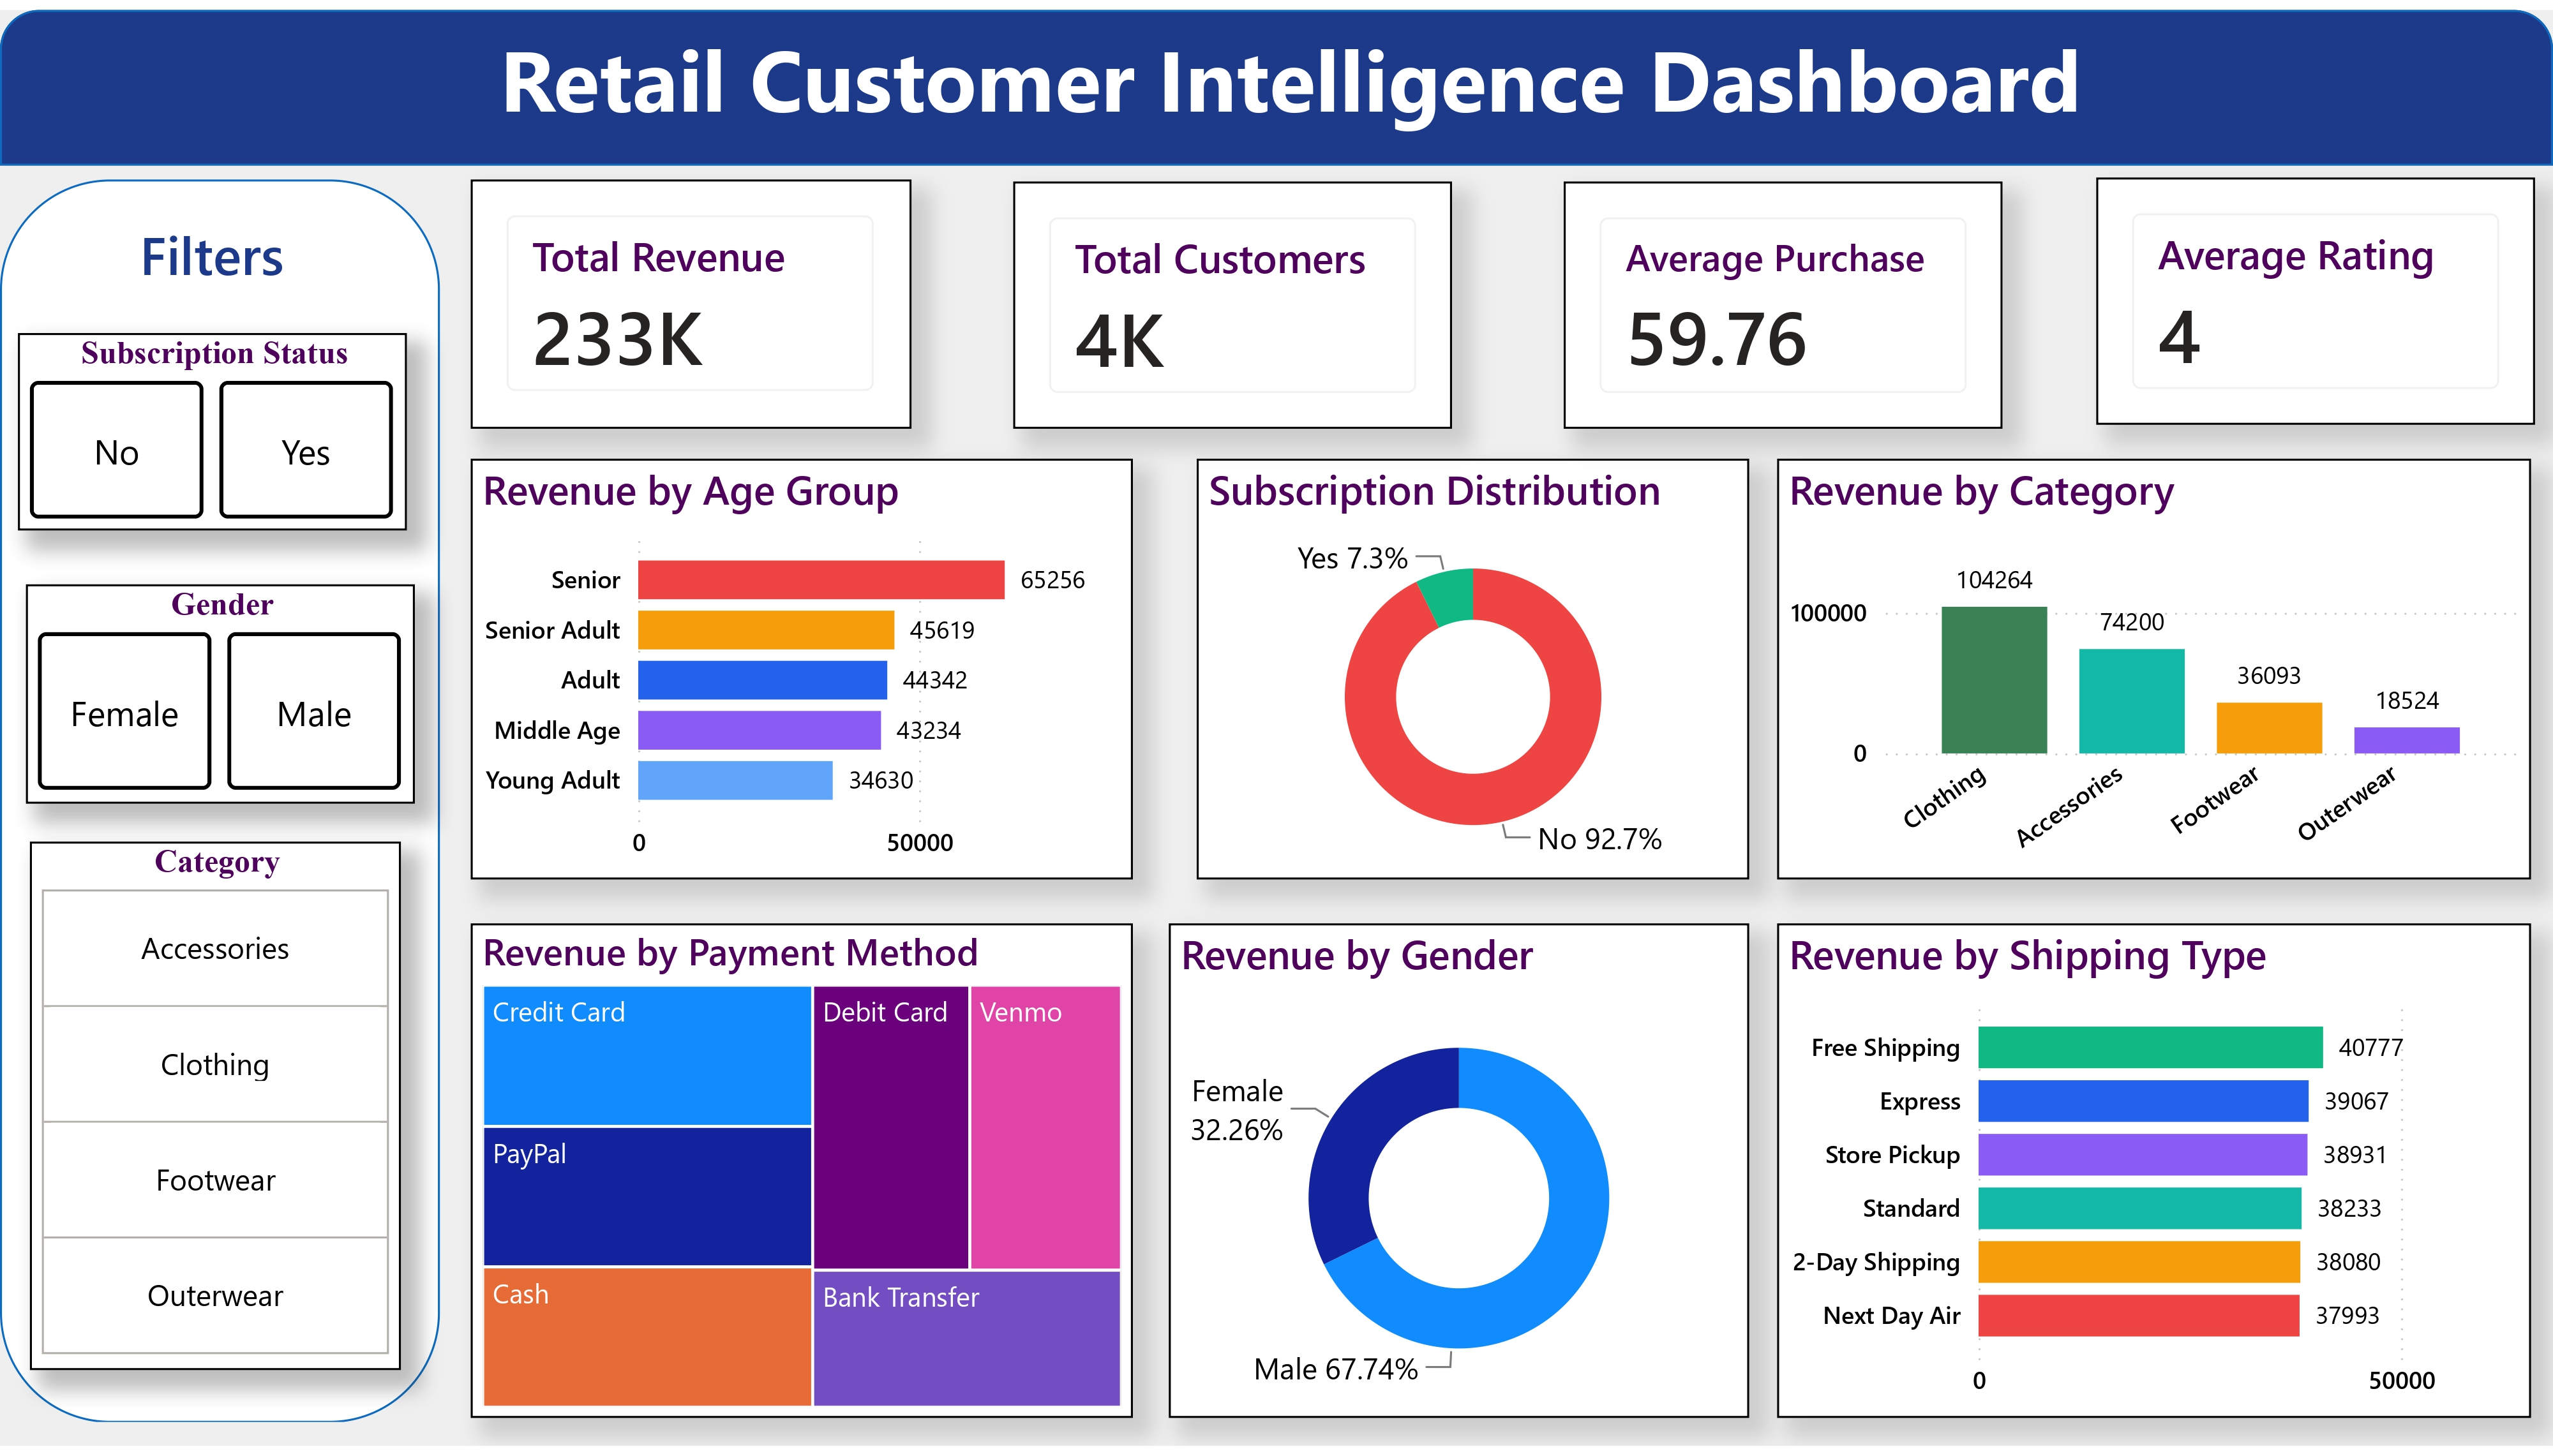

This screenshot's page, from the dashboard's own definition file:
{"tool":"powerbi","page":{"name":"Page 1","canvas":[1280,720],"ordinal":0},"visuals":[{"type":"shape","box":[0,0,1280,78.1],"z":0},{"type":"textbox","box":[13.8,0,1266.2,78.1],"z":1000},{"type":"donutChart","title":"Subscription Distribution","fields":{"Category":["customer_behaviour.subscription_status"],"Y":["Sum(customer_behaviour.customer_id)"]},"box":[600.2,225.1,277.1,211.3],"z":2000},{"type":"cardVisual","fields":{"Data":["customer_behaviour.Total Revenue"]},"box":[235.9,85.4,220.6,124.9],"z":3000},{"type":"cardVisual","fields":{"Data":["customer_behaviour.Average Rating"]},"box":[1050.5,84.1,220,124],"z":4000},{"type":"cardVisual","fields":{"Data":["customer_behaviour.avg_purchase_amount"]},"box":[783.9,85.7,220,124],"z":5000},{"type":"cardVisual","fields":{"Data":["customer_behaviour.Total Customers"]},"box":[508.3,85.7,220,124],"z":6000},{"type":"clusteredColumnChart","title":" Revenue by Category","fields":{"Category":["customer_behaviour.category"],"Y":["customer_behaviour.Total Revenue"]},"box":[891.1,225.1,378.2,211.3],"z":7000},{"type":"donutChart","title":"Revenue by Gender","fields":{"Category":["customer_behaviour.gender"],"Y":["Sum(customer_behaviour.purchase_amount)"]},"box":[586.4,457.8,290.9,248],"z":8000},{"type":"clusteredBarChart","title":"Revenue by Age Group","fields":{"Category":["customer_behaviour.age_group"],"Y":["Sum(customer_behaviour.purchase_amount)"]},"box":[235.8,225.1,332.2,211.3],"z":9000},{"type":"clusteredBarChart","title":"Revenue by Shipping Type","fields":{"Category":["customer_behaviour.shipping_type"],"Y":["Sum(customer_behaviour.purchase_amount)"]},"box":[891.1,457.8,378.2,248],"z":10000},{"type":"treemap","title":"Revenue by Payment Method","fields":{"Group":["customer_behaviour.payment_method"],"Values":["Sum(customer_behaviour.purchase_amount)"]},"box":[235.8,457.8,332.2,248],"z":11000},{"type":"shape","box":[0,85.4,220.6,623.4],"z":12000},{"type":"textbox","box":[24.2,99.4,164.5,48.4],"z":13000},{"type":"advancedSlicerVisual","title":"Subscription Status","fields":{"Values":["customer_behaviour.subscription_status"]},"box":[8.9,161.9,195.1,99.4],"z":14000},{"type":"advancedSlicerVisual","title":"Gender","fields":{"Values":["customer_behaviour.gender"]},"box":[12.7,288.1,195.1,109.6],"z":15000},{"type":"advancedSlicerVisual","title":"Category","fields":{"Values":["customer_behaviour.category"]},"box":[15.3,416.9,186.1,265.2],"z":16000}]}

Visuals, with their boxes in screenshot pixels (x1, y1, x2, y2), scaled from the page's 1280x720 canvas onto the 2553x1456 screenshot:
shape: (0, 0, 2552, 158)
textbox: (27, 0, 2552, 158)
"Subscription Distribution" donutChart: (1197, 455, 1750, 882)
cardVisual - customer_behaviour.Total Revenue: (470, 173, 911, 426)
cardVisual - customer_behaviour.Average Rating: (2095, 170, 2534, 421)
cardVisual - customer_behaviour.avg_purchase_amount: (1564, 174, 2002, 424)
cardVisual - customer_behaviour.Total Customers: (1014, 174, 1453, 424)
" Revenue by Category" clusteredColumnChart: (1778, 455, 2532, 882)
"Revenue by Gender" donutChart: (1169, 926, 1750, 1427)
"Revenue by Age Group" clusteredBarChart: (470, 455, 1133, 882)
"Revenue by Shipping Type" clusteredBarChart: (1778, 926, 2532, 1427)
"Revenue by Payment Method" treemap: (470, 926, 1133, 1427)
shape: (0, 173, 440, 1434)
textbox: (49, 201, 377, 299)
"Subscription Status" advancedSlicerVisual: (18, 327, 407, 528)
"Gender" advancedSlicerVisual: (26, 583, 414, 804)
"Category" advancedSlicerVisual: (31, 843, 401, 1379)
